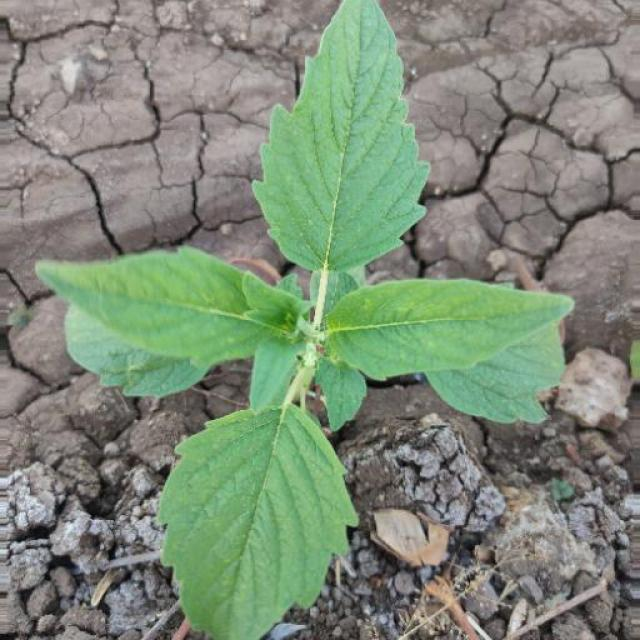crop: (40, 5, 579, 640)
